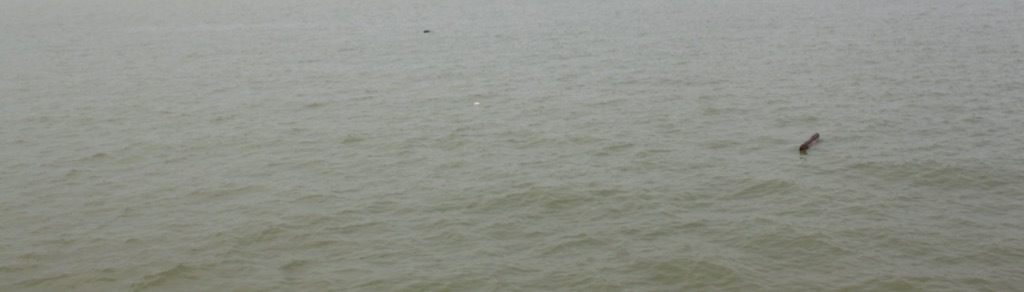organic: (791, 126, 827, 162), (419, 26, 435, 38)
plastic: (464, 95, 487, 113)
